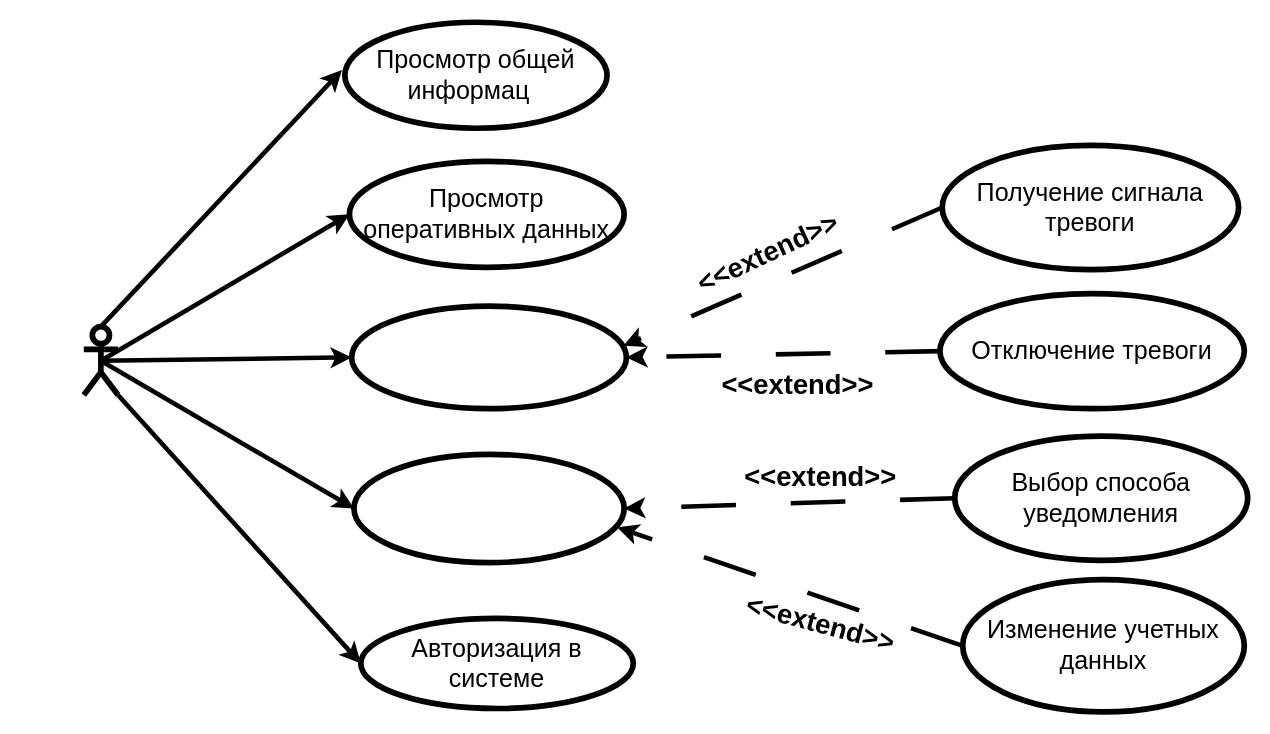
The diagram is 1270 pixels wide and 734 high, and some of its shapes have lost their labels. Here are the shapes that lost their labels. From the top down, the centre of each, then its label:
At (100,360): "Пользователь".
At (488,357): "Просмотр карты объекта".
At (488,508): "Настройка системы".
